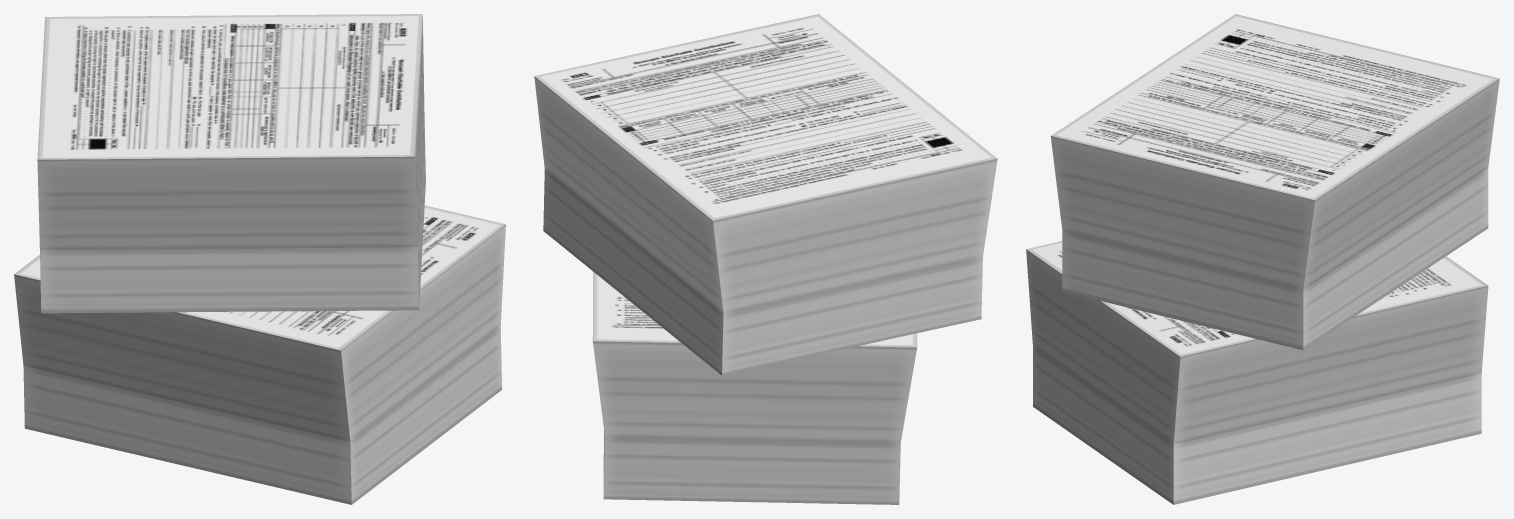
File: SM_Paper_Stack.fbx
The picture shows the model from 3 angles, left to right: view 1: azimuth 30°, elevation 25°; view 2: azimuth 150°, elevation 25°; view 3: azimuth 270°, elevation 25°; orthographic projection. The views are drawn at different scales.
Visible parts, largest first — view 1: SM_paPer_stack2; view 2: SM_paPer_stack2; view 3: SM_paPer_stack2.
Boxes of the visible parts, x1,y1,x2,y2 form: SM_paPer_stack2: (14, 14, 505, 504); SM_paPer_stack2: (534, 14, 997, 504); SM_paPer_stack2: (1026, 14, 1499, 504).
Bounding box in the file's own units: 46.51 × 33.5 × 46.2.
Materials: 1 (1 with a texture image).
